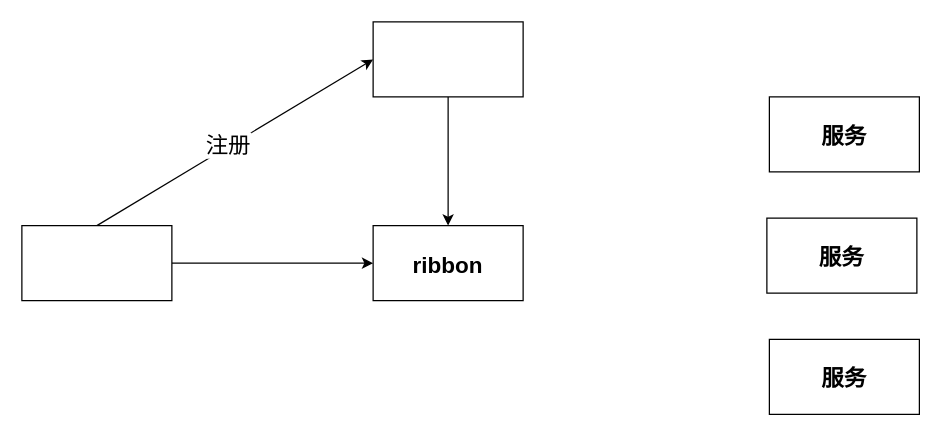
Image size: 941x436. Some labels were removed from this diagram. The box of each missing label's shape, as (x1, y1, x2, y2) in pixels:
Nacos: (372, 21, 523, 97)
服务调用者: (21, 224, 172, 301)
